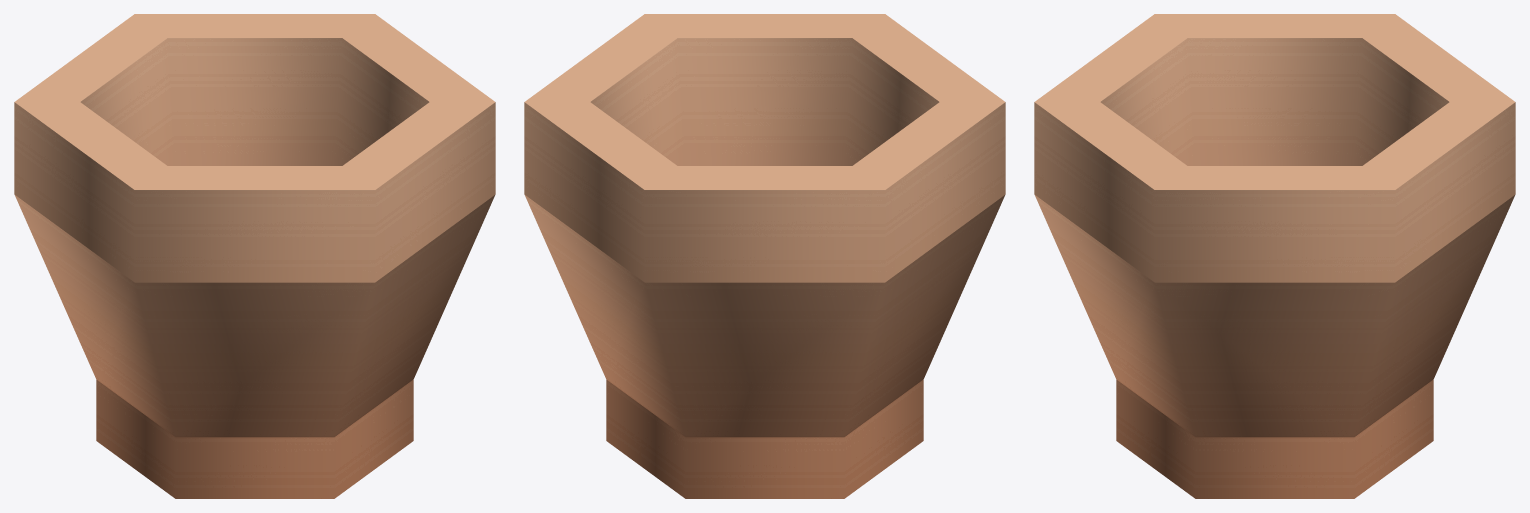
File: food-ice-cream-cup.glb
3 renders of one model, left to right at view 1: azimuth 30°, elevation 25°; view 2: azimuth 150°, elevation 25°; view 3: azimuth 270°, elevation 25°, orthographic.
Parts seen in each view (by area): view 1: ice-cream-cup; view 2: ice-cream-cup; view 3: ice-cream-cup.
Boxes of the visible parts, left/top/right/bottom form: ice-cream-cup: left=14, top=14, right=495, bottom=498; ice-cream-cup: left=524, top=14, right=1005, bottom=498; ice-cream-cup: left=1034, top=14, right=1515, bottom=498.
Size of the model in its own units: 0.2011 by 0.1804 by 0.2322.
1 material, 1 textured.
